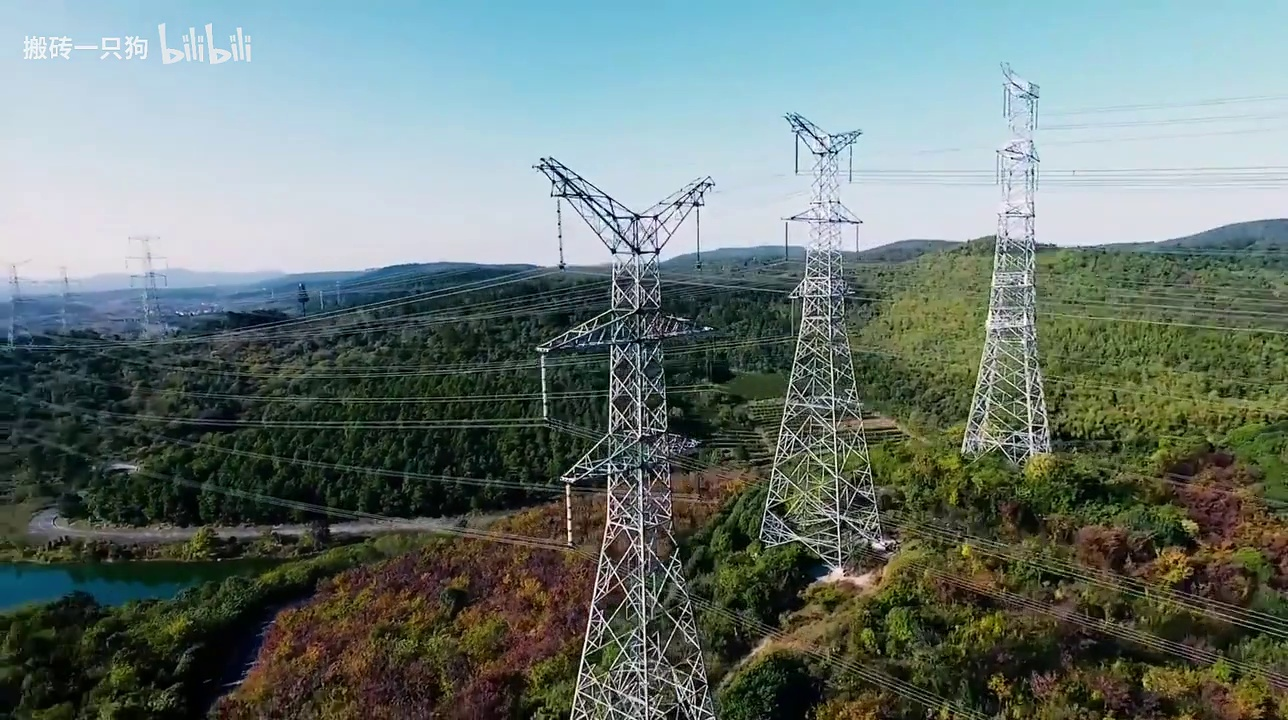tower_body: (510, 142, 740, 720), (752, 99, 924, 582), (947, 51, 1083, 469)
tower_foot: (755, 461, 910, 575), (566, 614, 721, 720), (954, 380, 1068, 461)
tower_head: (521, 150, 726, 261), (768, 108, 881, 169), (985, 63, 1056, 136)
